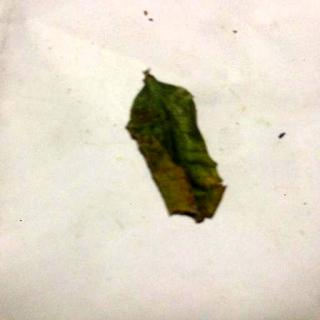Red Leaf Spot: (127, 72, 228, 225)
